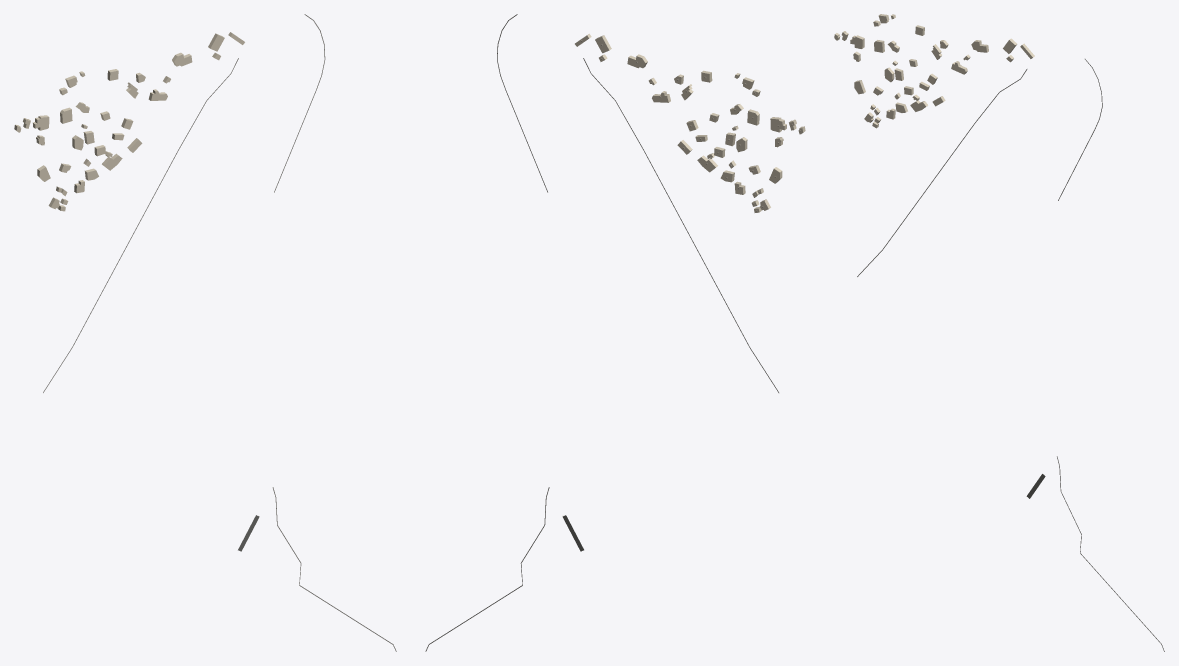
The model's file is historic-palestine-13_36_3551_3307.glb.
3 views of the same model, side by side, from view 1: azimuth 30°, elevation 25°; view 2: azimuth 150°, elevation 25°; view 3: azimuth 330°, elevation 25° (orthographic). The views are drawn at different scales.
Size of the model in its own units: 695 by 1153 by 8.7.
